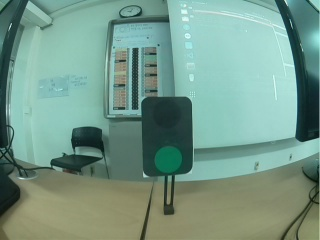green_light: (145, 99, 189, 174)
